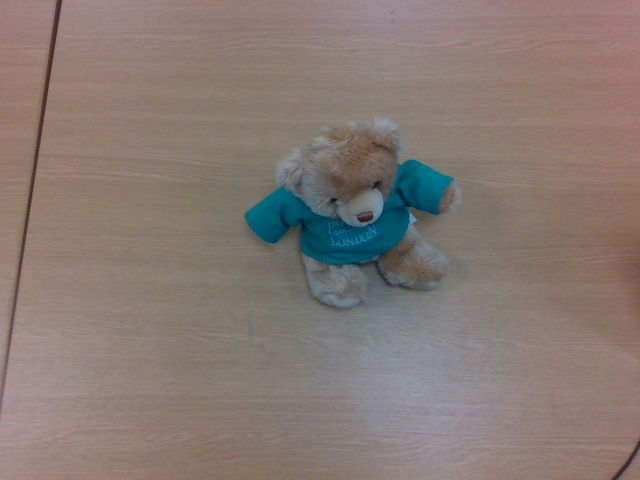teddy: (245, 117, 463, 309)
